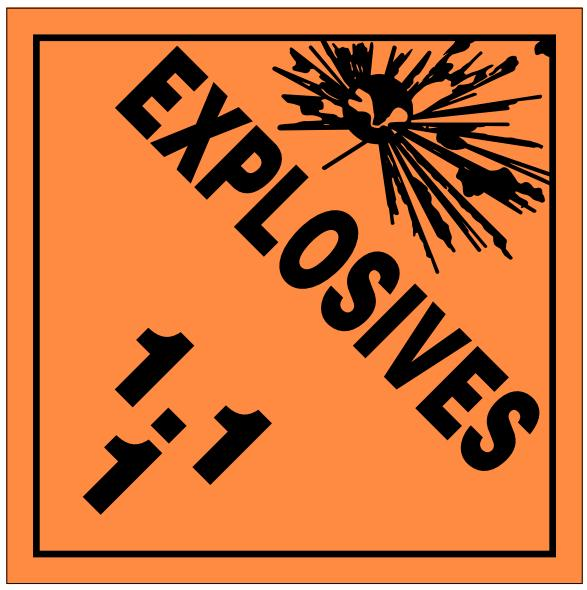explosive: (1, 1, 587, 590)
